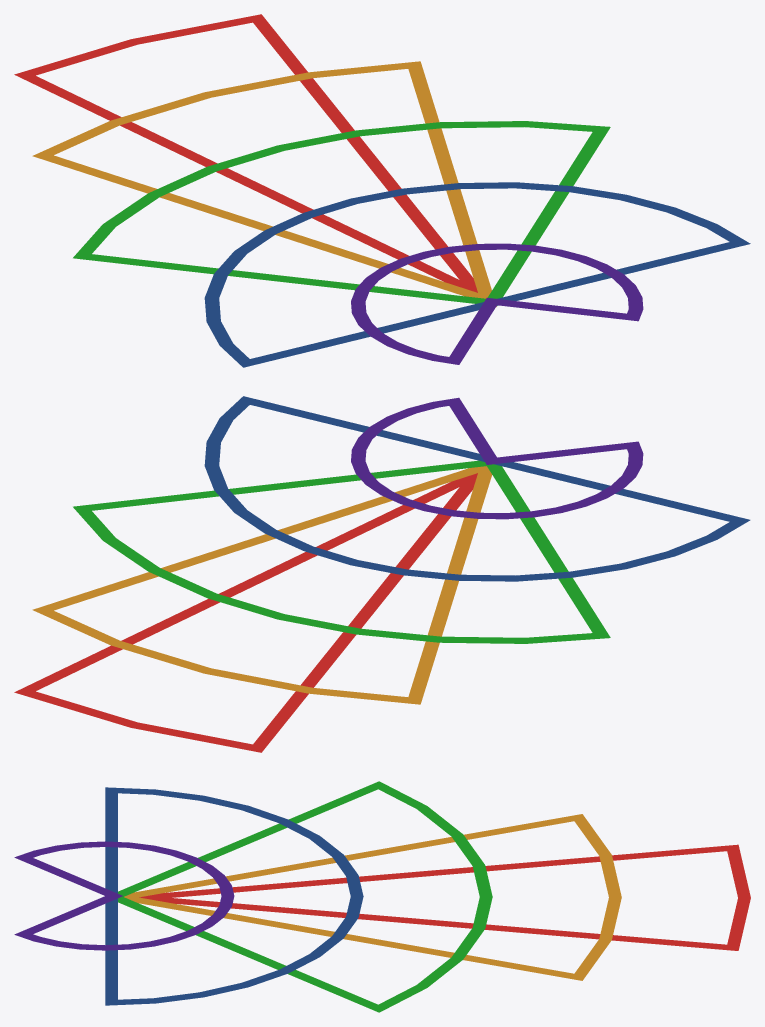
File: melee.obj
3 renders of one model, top to bottom at view 1: azimuth 30°, elevation 25°; view 2: azimuth 150°, elevation 25°; view 3: azimuth 270°, elevation 25°, orthographic. The views are drawn at different scales.
Visible parts, largest first — view 1: Circle.004; view 2: Circle.004; view 3: Circle.004.
Part boxes in pixels (<box>): Circle.004: <box>14,14,750,367</box>; Circle.004: <box>14,396,750,752</box>; Circle.004: <box>14,781,750,1012</box>.
Bounding box in the file's own units: 4.24 × 0.016 × 5.71.
